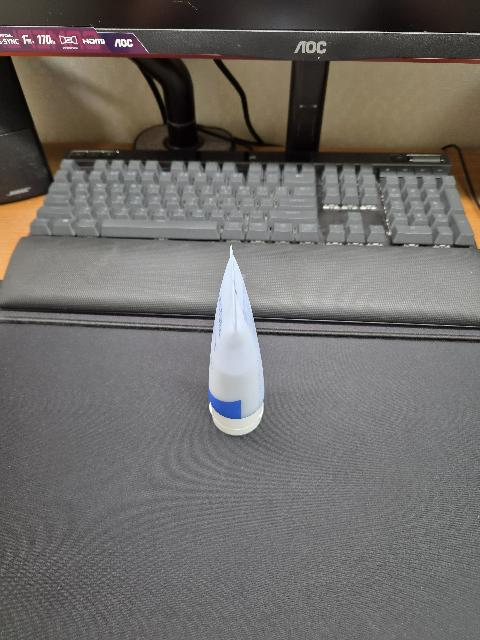handcream: (208, 245, 265, 435)
